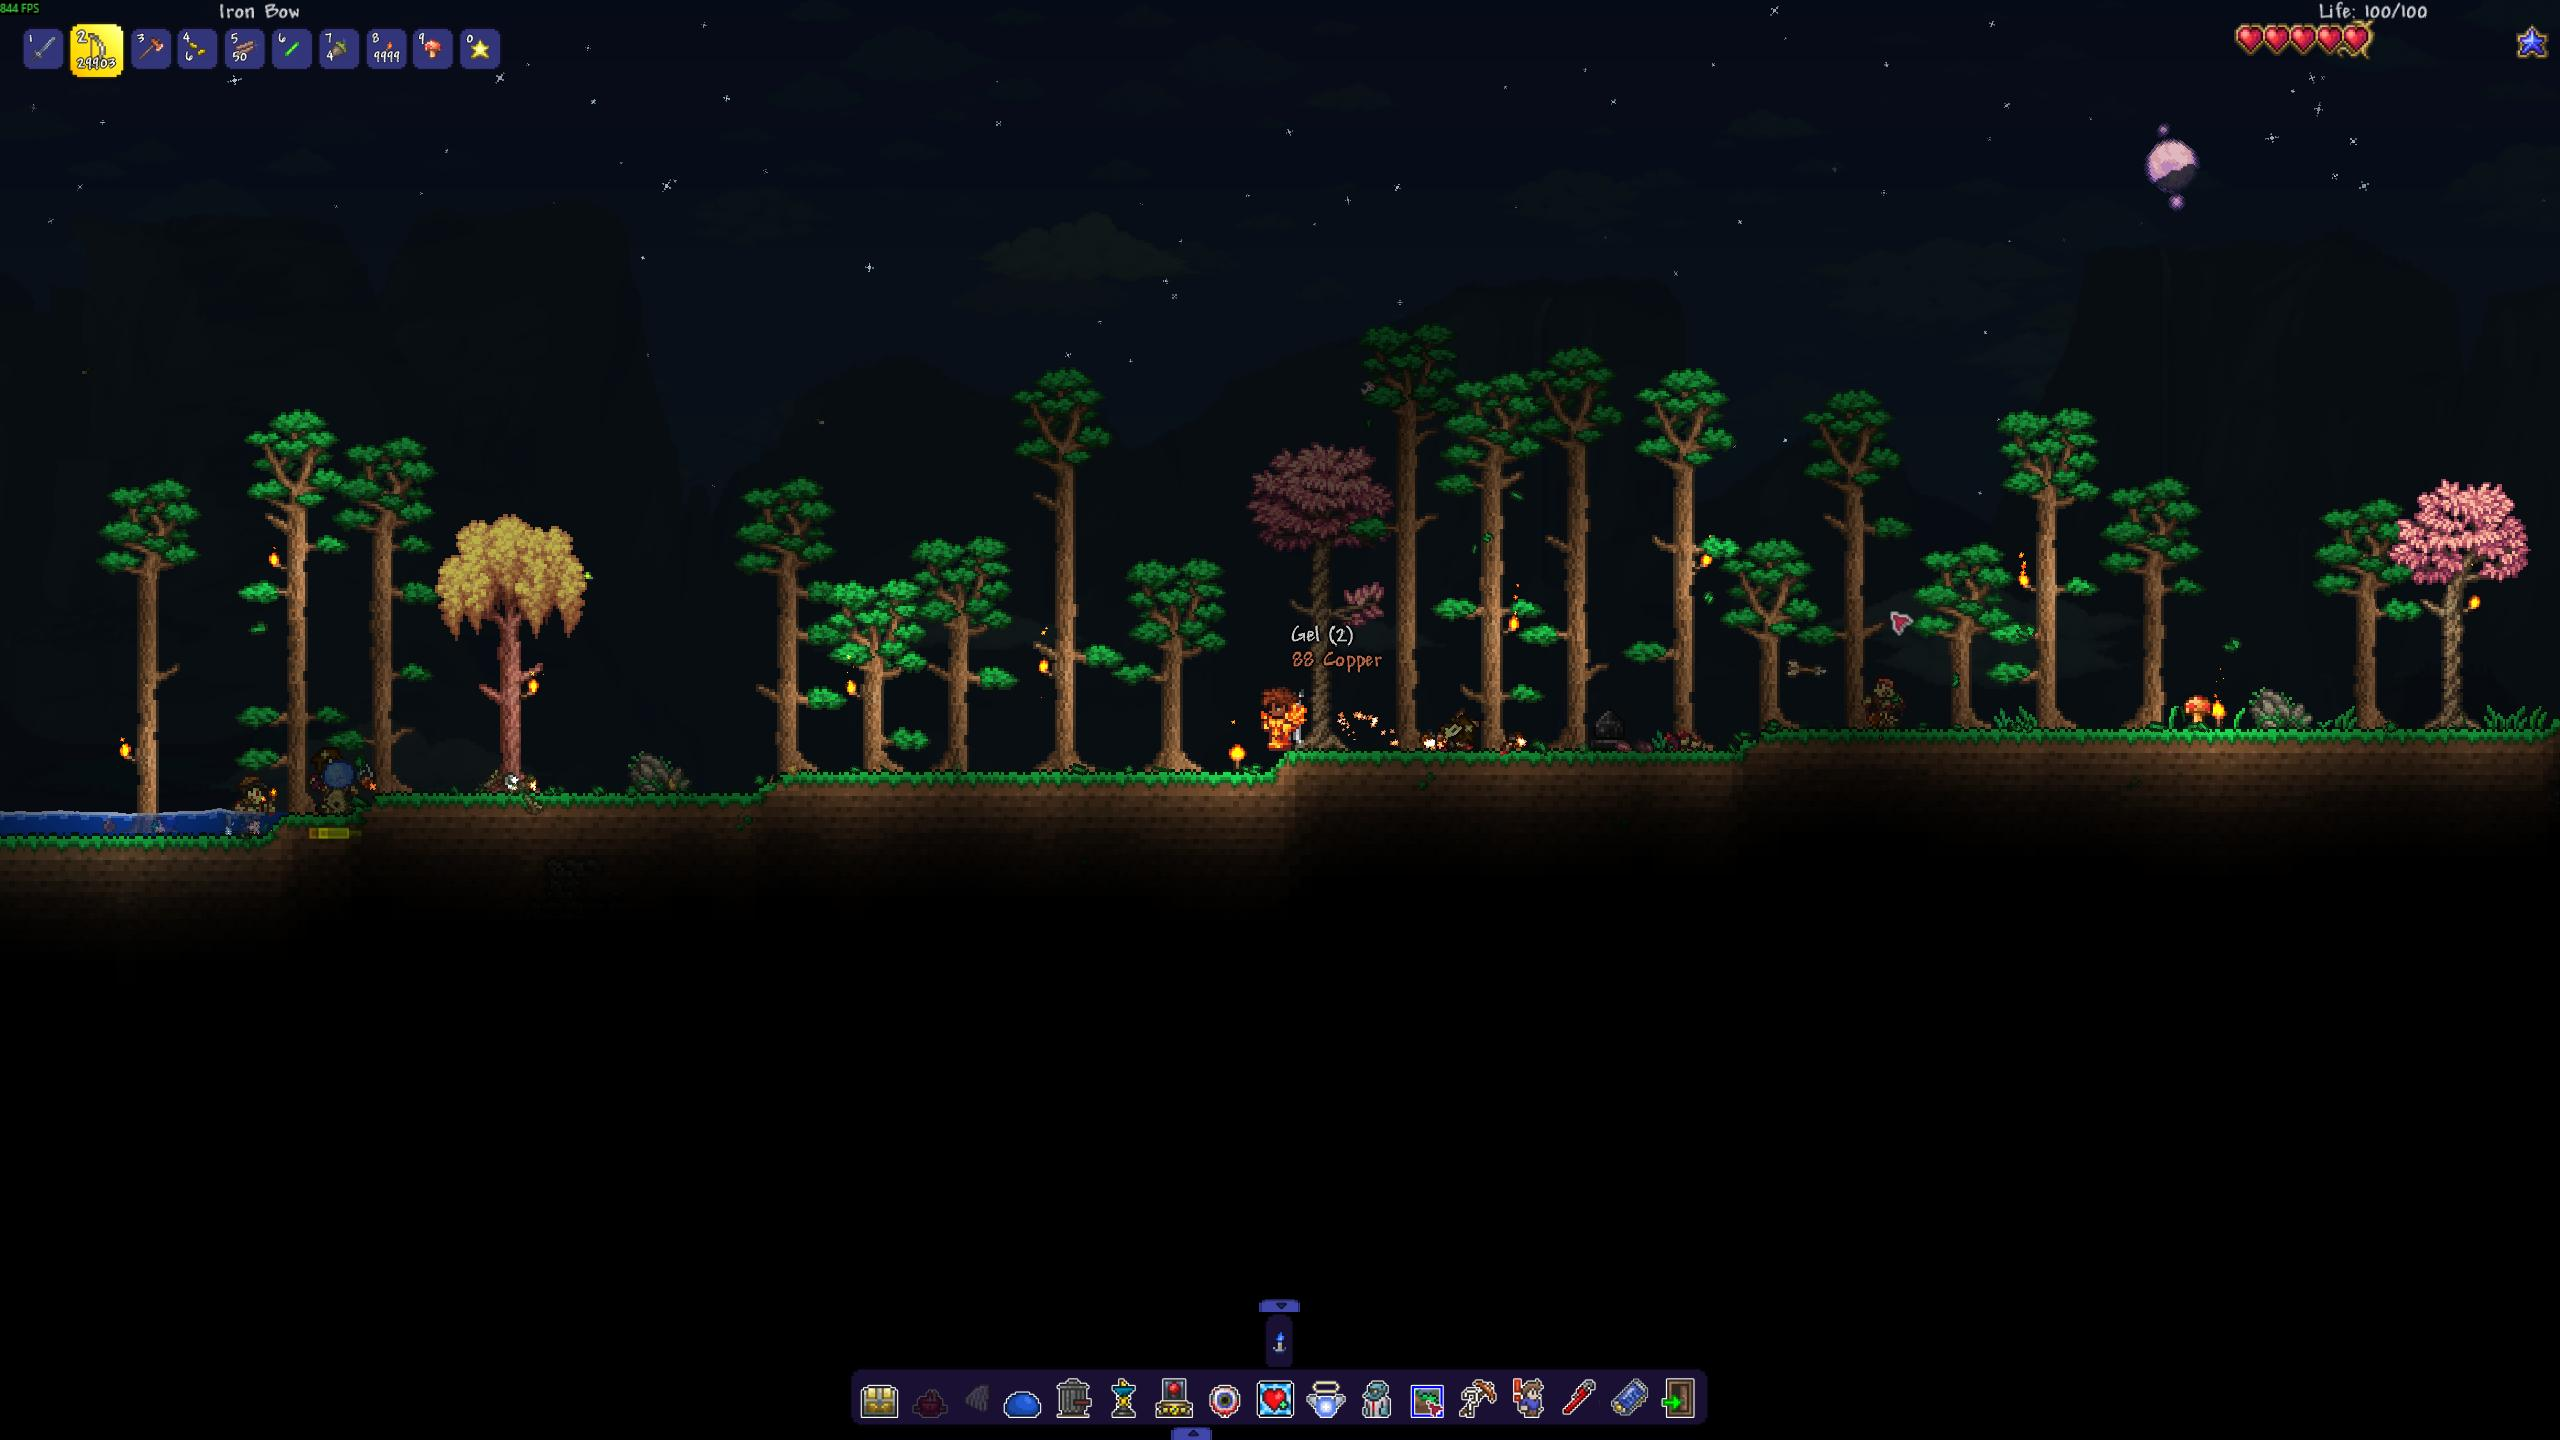Zombie: (1858, 673, 1908, 730), (232, 774, 274, 833), (325, 761, 359, 812)
